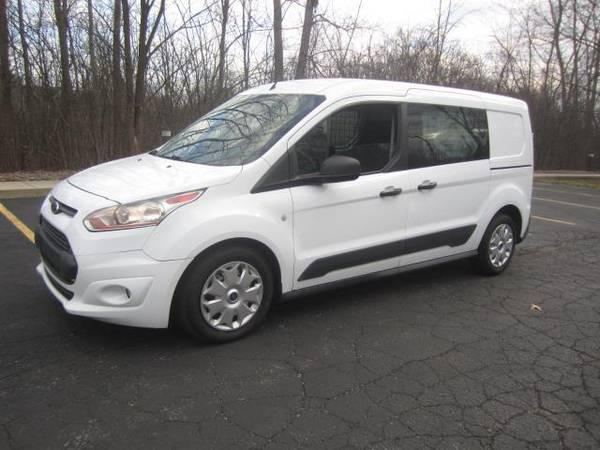Front_Bumper: (41, 180, 192, 327)
Front_Fender: (140, 158, 292, 295)
Front_Left_Door: (289, 170, 409, 294)
Front_Left_Window: (270, 104, 406, 188)
Front_Windshield: (149, 93, 325, 168)
Grille: (35, 213, 76, 306)
Hood: (64, 155, 237, 204)
Left_Headlight: (79, 185, 203, 230)
Rear_Fender: (464, 106, 534, 254)
Rear_Left_Door: (403, 160, 490, 270)
Rear_Left_Window: (405, 101, 490, 168)
Roof: (241, 77, 532, 180)
Wheel: (180, 246, 277, 346), (481, 213, 521, 274)
